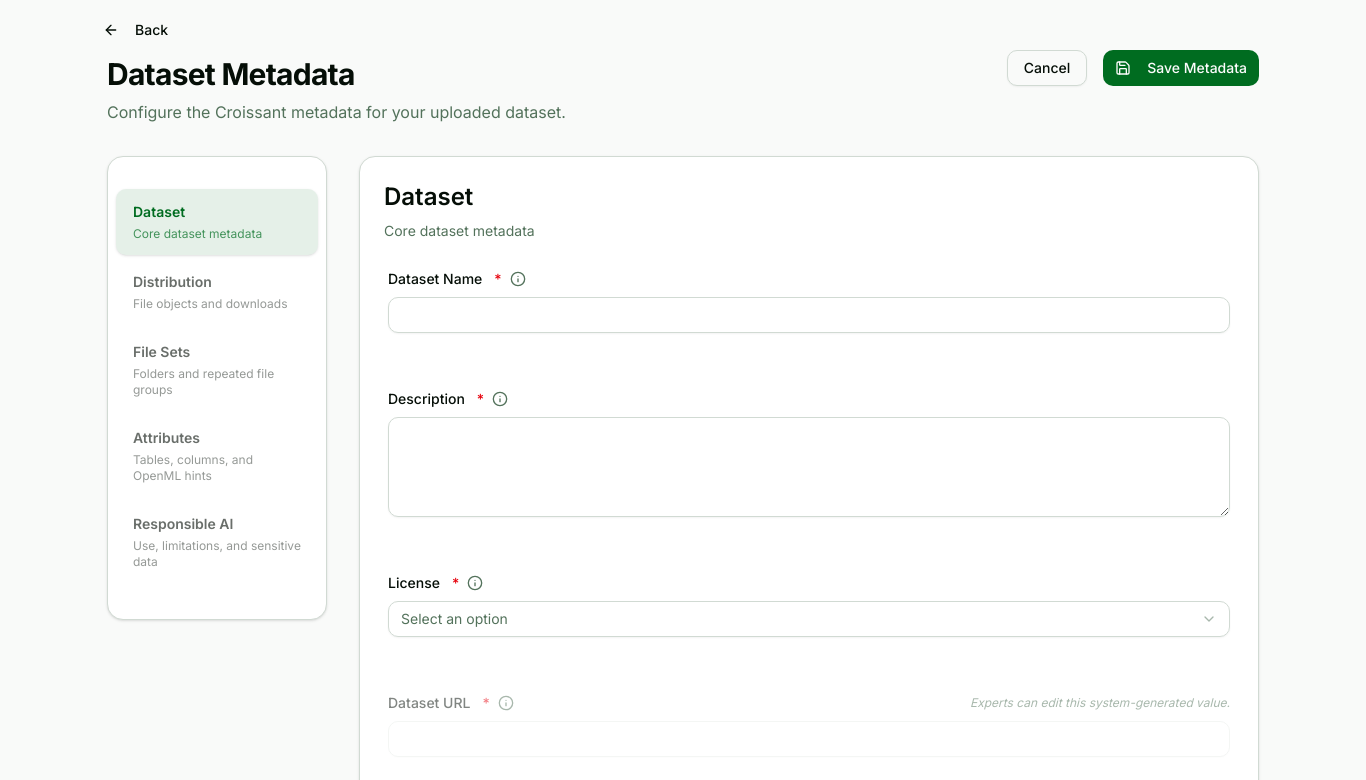
CroissantMetadataPage › adds a distribution item when "Add Distribution" is clicked
Click the tab "Distribution File objects and downloads" at (217, 292), box x1=116 y1=259 x2=318 y2=325
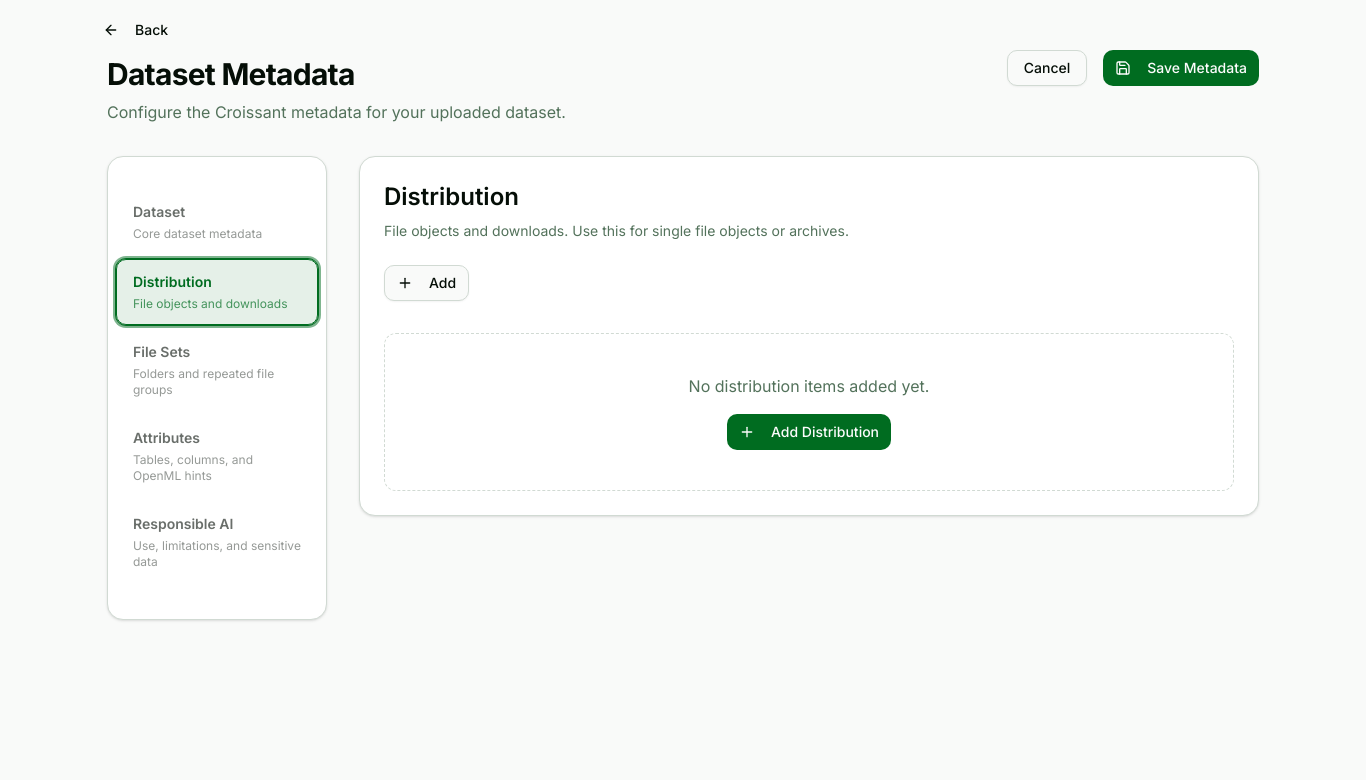
Click the button "Add Distribution" at (809, 432), box x1=727 y1=414 x2=891 y2=450
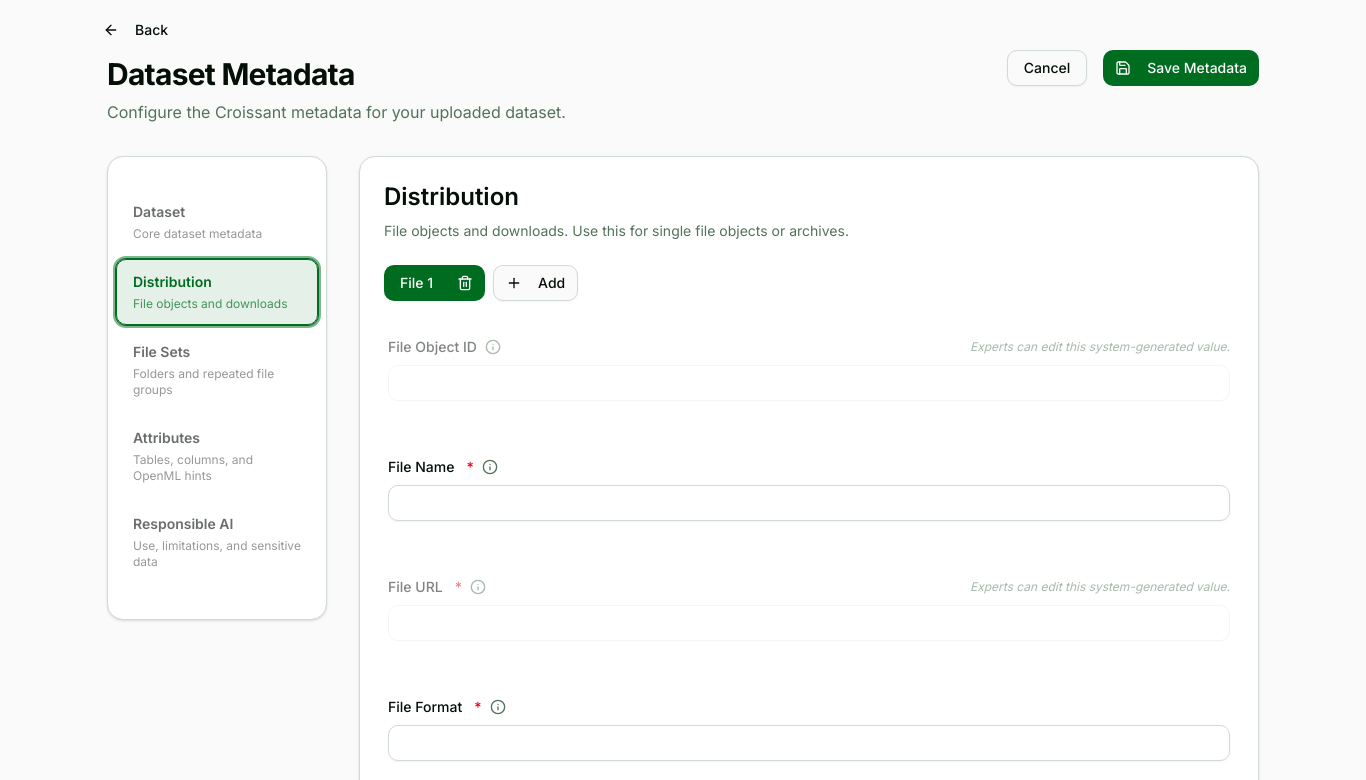
Now the text "No distribution items added yet" is gone
Now the button "File 1" is shown, box x1=384 y1=265 x2=445 y2=301
